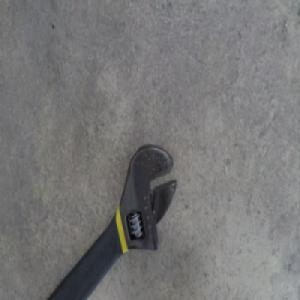AdjustableWrench: (49, 143, 180, 299)
